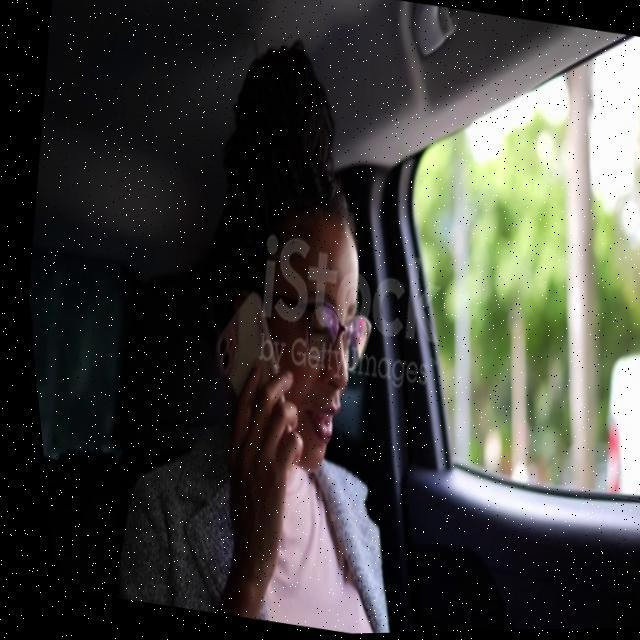PhoneCall: (184, 284, 310, 466)
